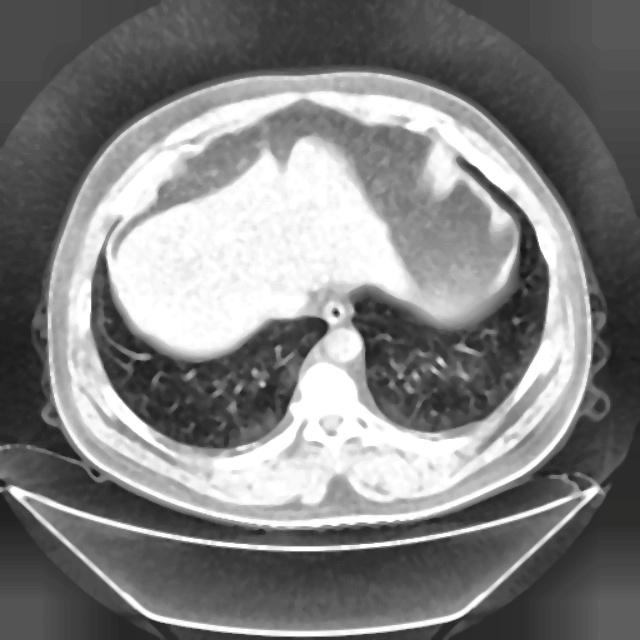covid: (38, 69, 599, 528)
